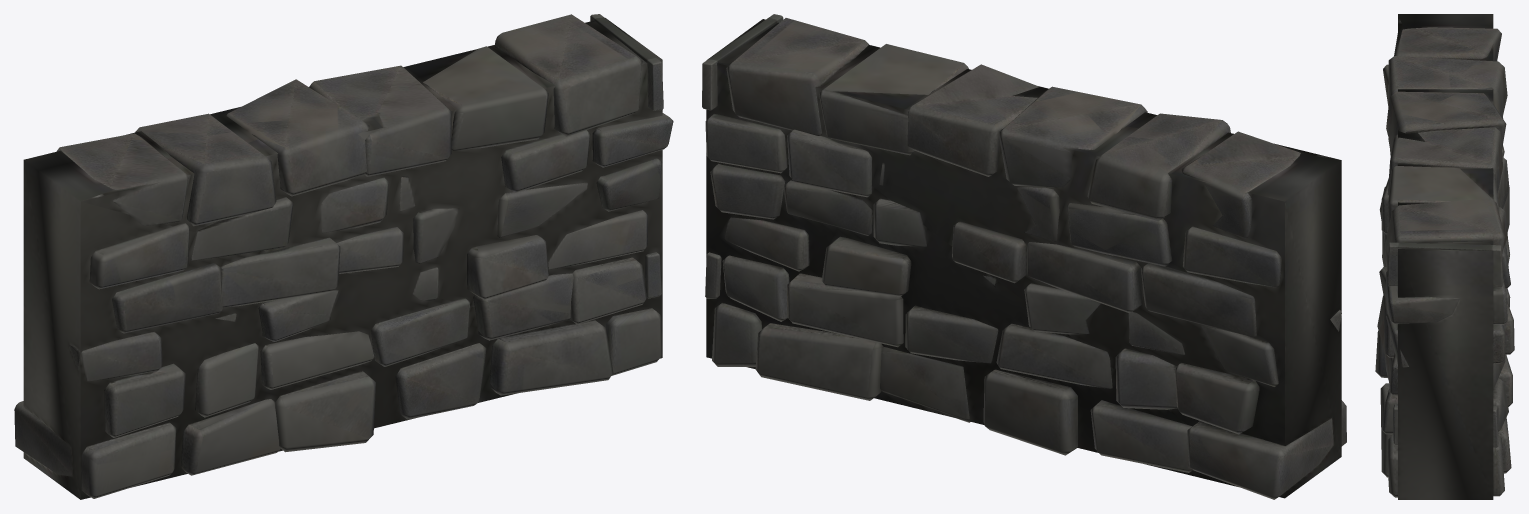
File: wall_rubble.glb
3 renders of one model, left to right at view 1: azimuth 30°, elevation 25°; view 2: azimuth 150°, elevation 25°; view 3: azimuth 270°, elevation 25°, orthographic. The views are drawn at different scales.
Parts seen in each view (by area): view 1: wall_rubble; view 2: wall_rubble; view 3: wall_rubble.
Boxes of the visible parts, x1=… form: wall_rubble: x1=14, y1=14, x2=673, y2=499; wall_rubble: x1=702, y1=14, x2=1346, y2=499; wall_rubble: x1=1375, y1=14, x2=1514, y2=499.
Size of the model in its own units: 4.09 by 2.08 by 0.9927.
Materials: 1 (1 with a texture image).
